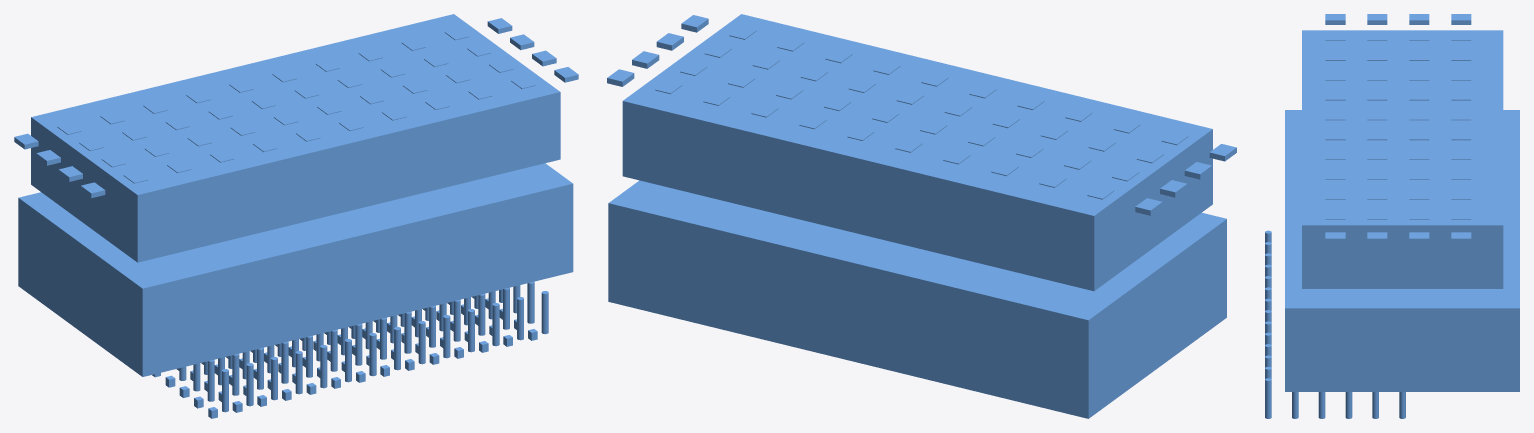
3 renders of one model, left to right at view 1: azimuth 30°, elevation 25°; view 2: azimuth 150°, elevation 25°; view 3: azimuth 270°, elevation 25°, orthographic. The views are drawn at different scales.
Parts seen in each view (by area): view 1: rep_clone_barracks_sketchfab_001; view 2: rep_clone_barracks_sketchfab_001; view 3: rep_clone_barracks_sketchfab_001.
Part boxes in pixels (x1,y1,x2,y2): rep_clone_barracks_sketchfab_001: (14, 14, 578, 418); rep_clone_barracks_sketchfab_001: (607, 14, 1236, 418); rep_clone_barracks_sketchfab_001: (1265, 14, 1519, 418).
Bounding box in the file's own units: 3.17 × 1.39 × 1.52.
